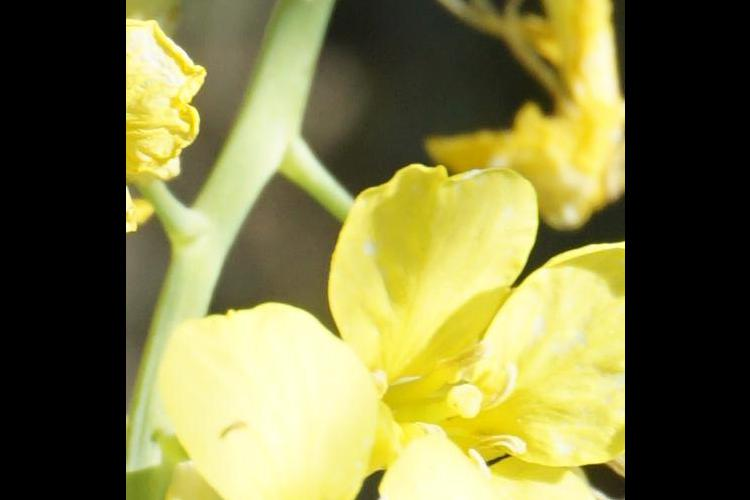yellow: (341, 165, 621, 500), (136, 300, 488, 500), (455, 1, 610, 205)
